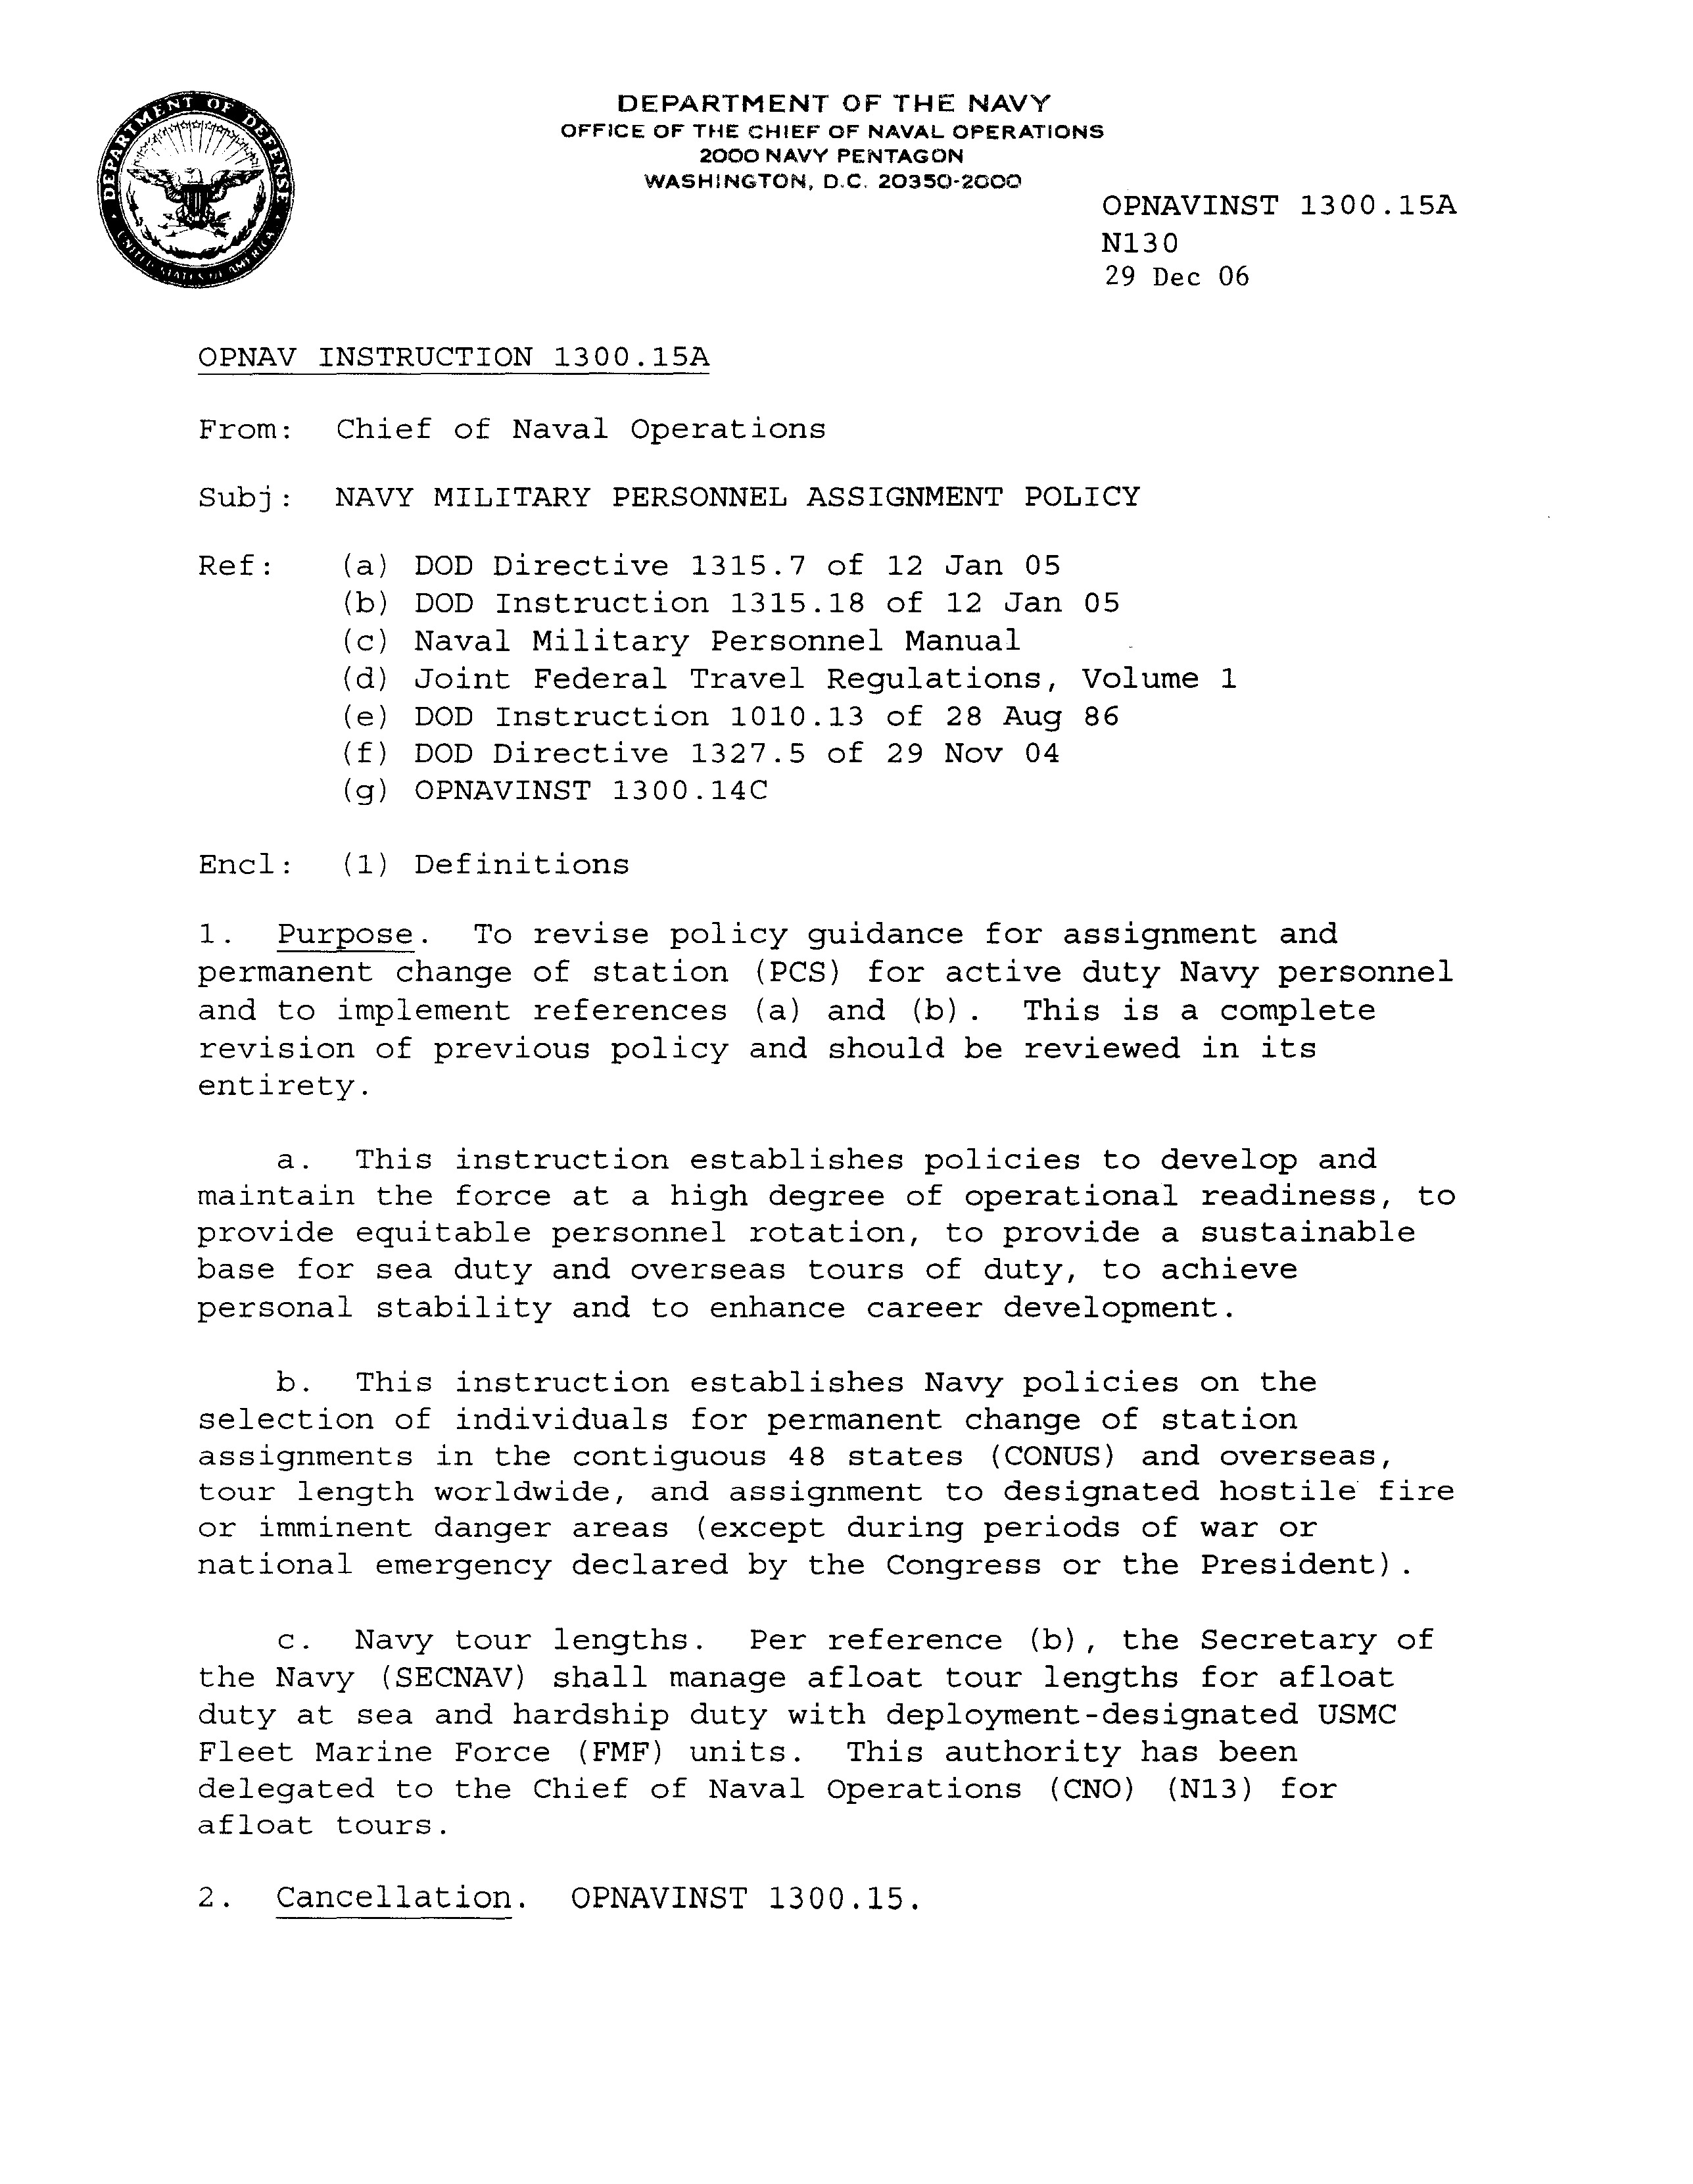figure: (96, 87, 293, 292)
list: (195, 530, 1248, 815)
section: (193, 846, 642, 885), (202, 344, 722, 365), (195, 920, 440, 943)
text: (202, 1360, 1459, 1588), (199, 1629, 1439, 1837), (183, 915, 1452, 1101), (202, 1142, 1463, 1324), (560, 87, 1106, 199), (1113, 199, 1463, 292), (195, 479, 1149, 512), (199, 1879, 915, 1922), (337, 698, 1119, 732), (344, 670, 1237, 695), (349, 551, 1078, 581), (340, 741, 1078, 769), (199, 417, 830, 448), (346, 590, 1131, 615), (344, 633, 1016, 654), (346, 782, 776, 808), (202, 546, 269, 583)
